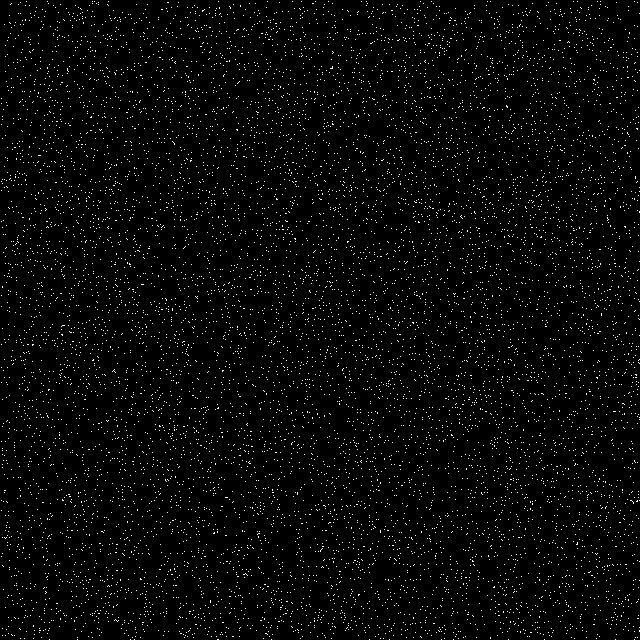nothing: (2, 2, 640, 640)
